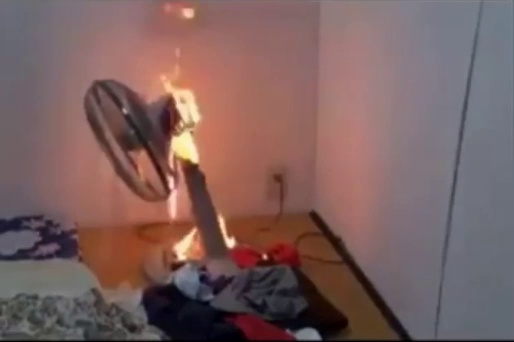fire: (155, 64, 212, 173)
